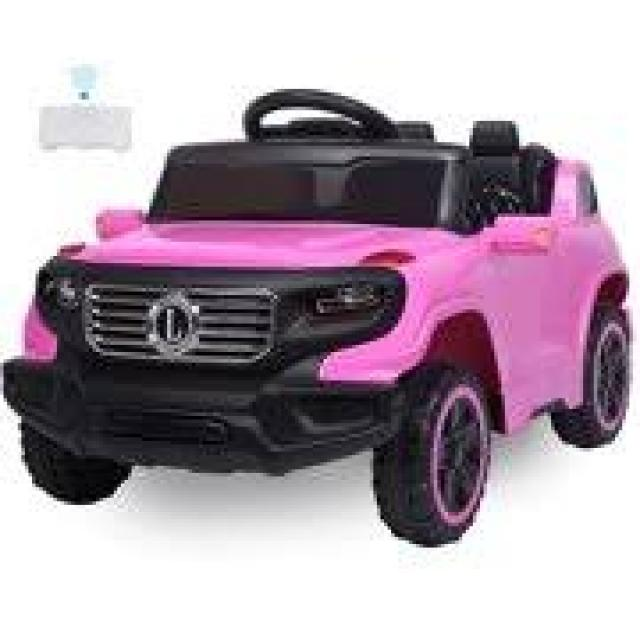Car: (0, 85, 629, 547)
